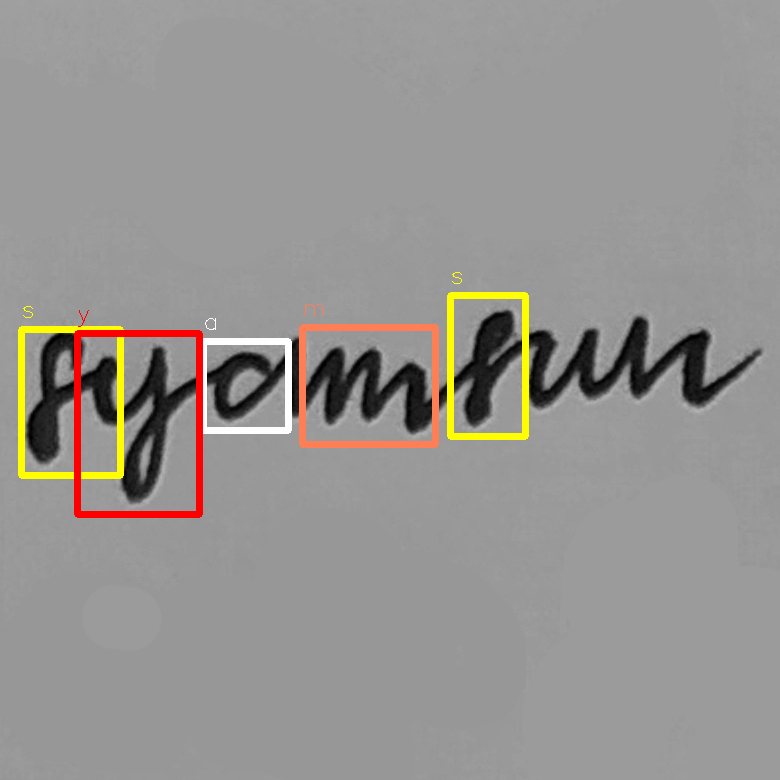a: (207, 332, 308, 426)
m: (315, 339, 434, 438)
n: (616, 310, 715, 411)
s: (18, 325, 88, 466), (458, 305, 517, 429)
u: (521, 322, 604, 412)
y: (90, 341, 176, 508)
